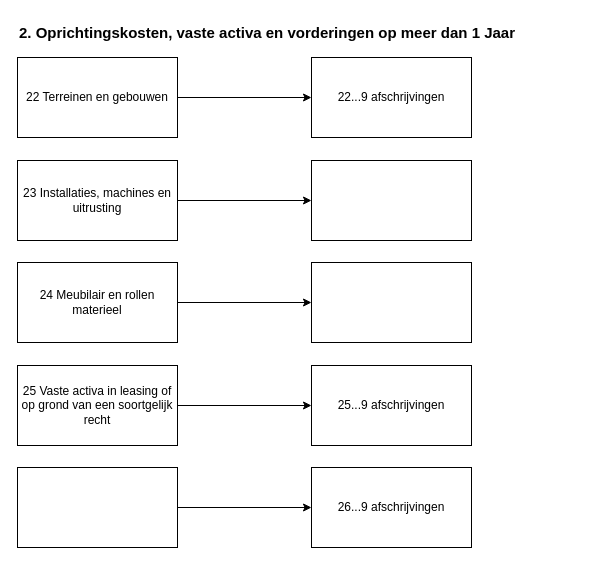
The diagram is 605 pixels wide and 565 high, and some of its shapes have lost their labels. Each missing label, with the centre of its shape:
23...9 afschrijvingen: (x=391, y=200)
24...9 afschrijvingen: (x=391, y=302)
26 Andere materiele vaste activa: (x=97, y=507)
